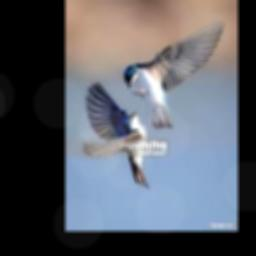Swallow: (124, 19, 226, 129), (84, 83, 149, 187)
